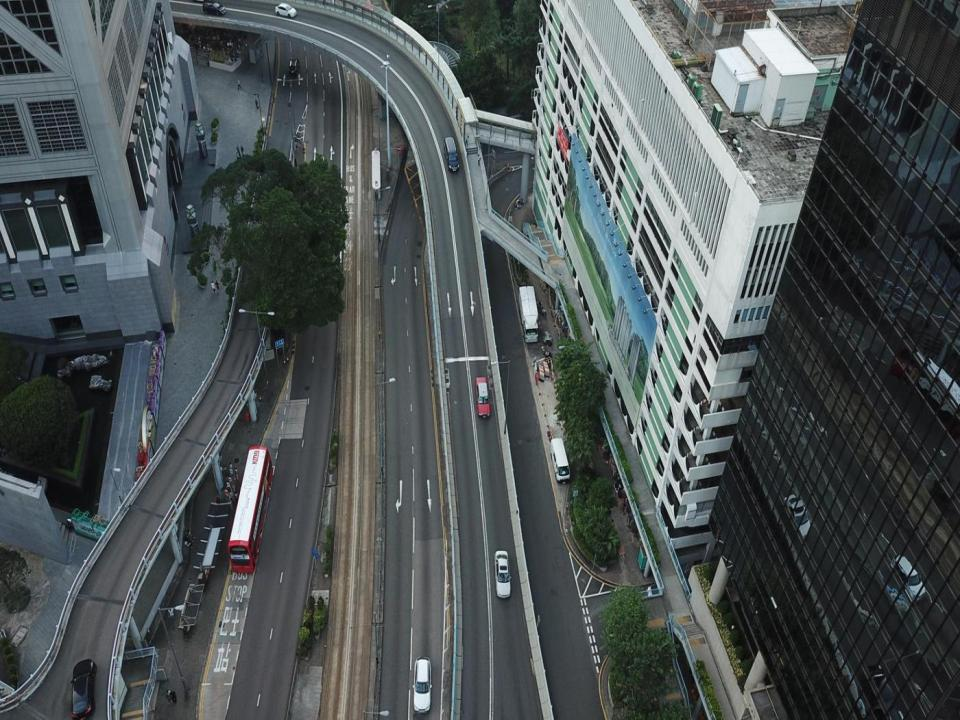bus: (890, 345, 956, 423), (228, 443, 264, 576), (550, 435, 570, 487)
car: (890, 550, 927, 598), (70, 656, 95, 716), (412, 655, 430, 714), (785, 493, 808, 538), (493, 548, 512, 598), (476, 376, 489, 420), (202, 2, 227, 17), (286, 58, 300, 82), (276, 3, 295, 20)
truck: (520, 284, 542, 345)
van: (443, 135, 460, 175)
